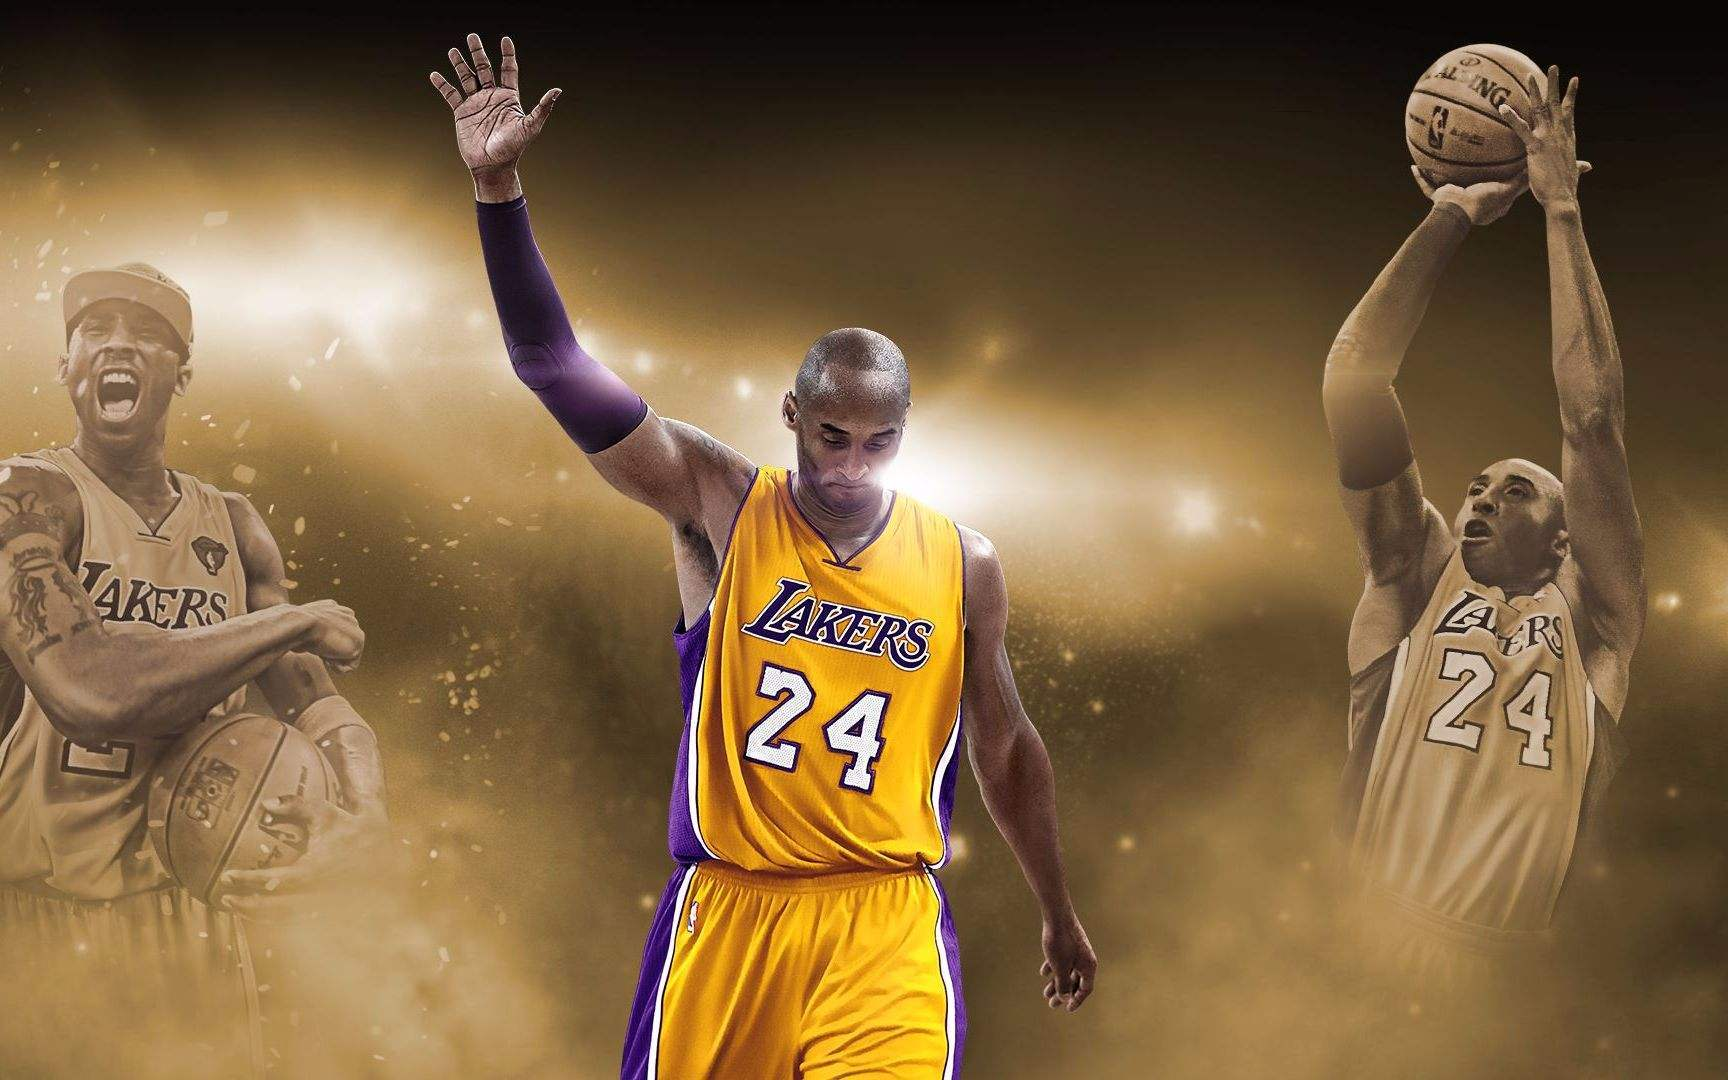ball: (149, 710, 347, 921), (1401, 41, 1561, 203)
